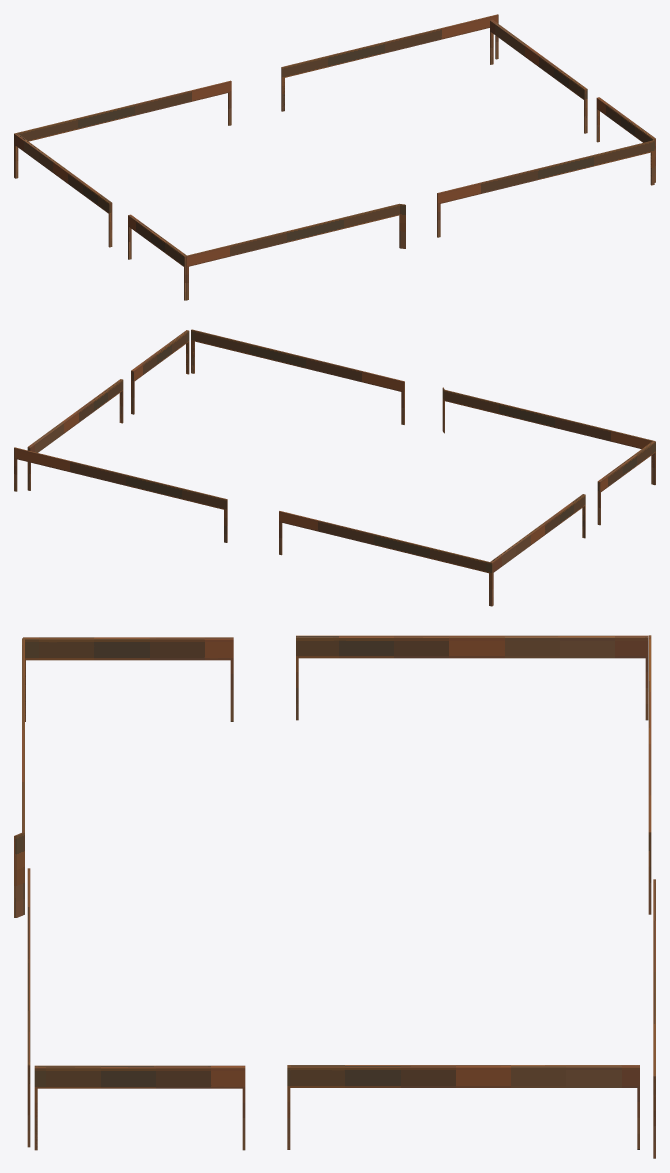
File: guardrail_003.fbx
3 renders of one model, top to bottom at view 1: azimuth 30°, elevation 25°; view 2: azimuth 150°, elevation 25°; view 3: azimuth 270°, elevation 25°, orthographic. The views are drawn at different scales.
Parts seen in each view (by area): view 1: guardrail.003; view 2: guardrail.003; view 3: guardrail.003.
Boxes of the visible parts, bbox=[...] form: guardrail.003: bbox=[14, 14, 655, 300]; guardrail.003: bbox=[14, 329, 655, 606]; guardrail.003: bbox=[14, 635, 655, 1158].
Size of the model in its own units: 3804 by 330 by 2341.
1 material, 1 textured.
